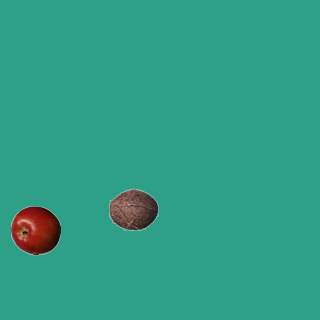Apple Braeburn: (10, 205, 60, 255)
Cocos: (108, 184, 158, 234)
